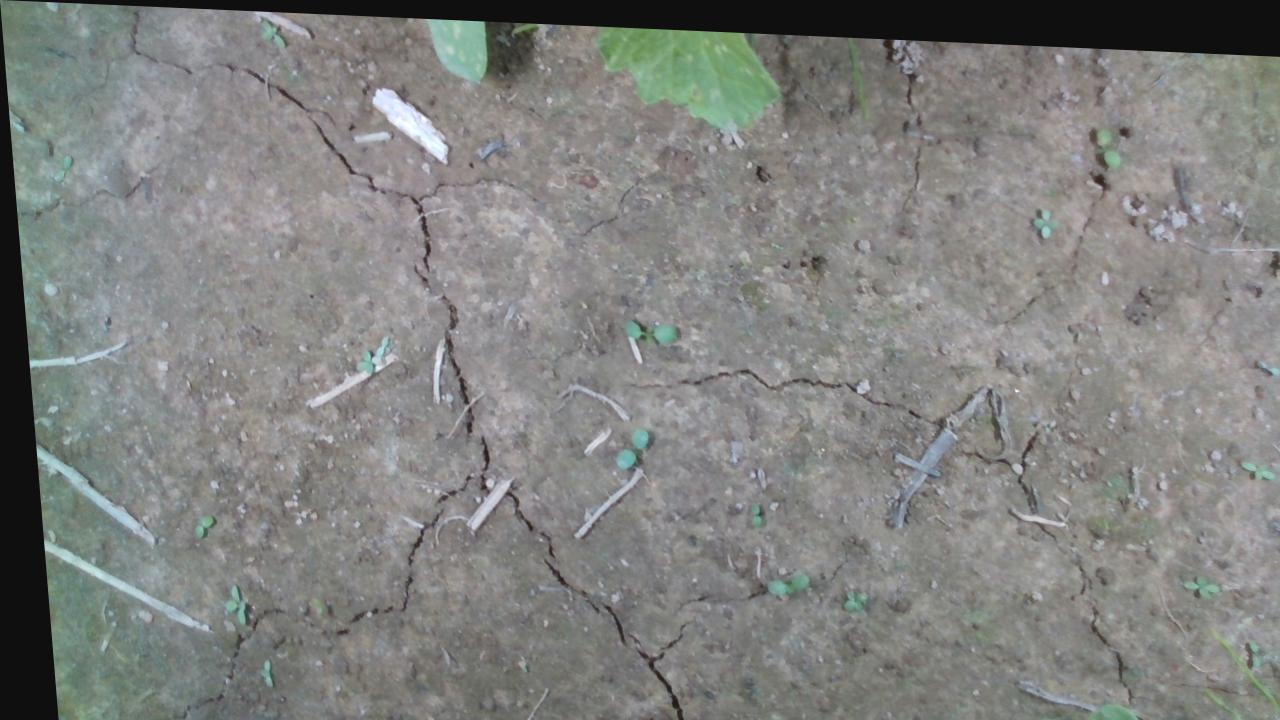weed: (604, 420, 643, 465), (616, 313, 672, 339), (1091, 114, 1120, 160), (754, 562, 800, 590), (209, 581, 238, 625), (1171, 561, 1213, 588), (1024, 194, 1049, 231), (827, 580, 860, 605), (1232, 447, 1267, 470), (181, 511, 205, 537), (1234, 627, 1250, 658), (247, 657, 260, 686), (740, 493, 753, 521)
